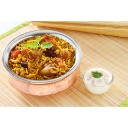briyani: (13, 37, 74, 76)
